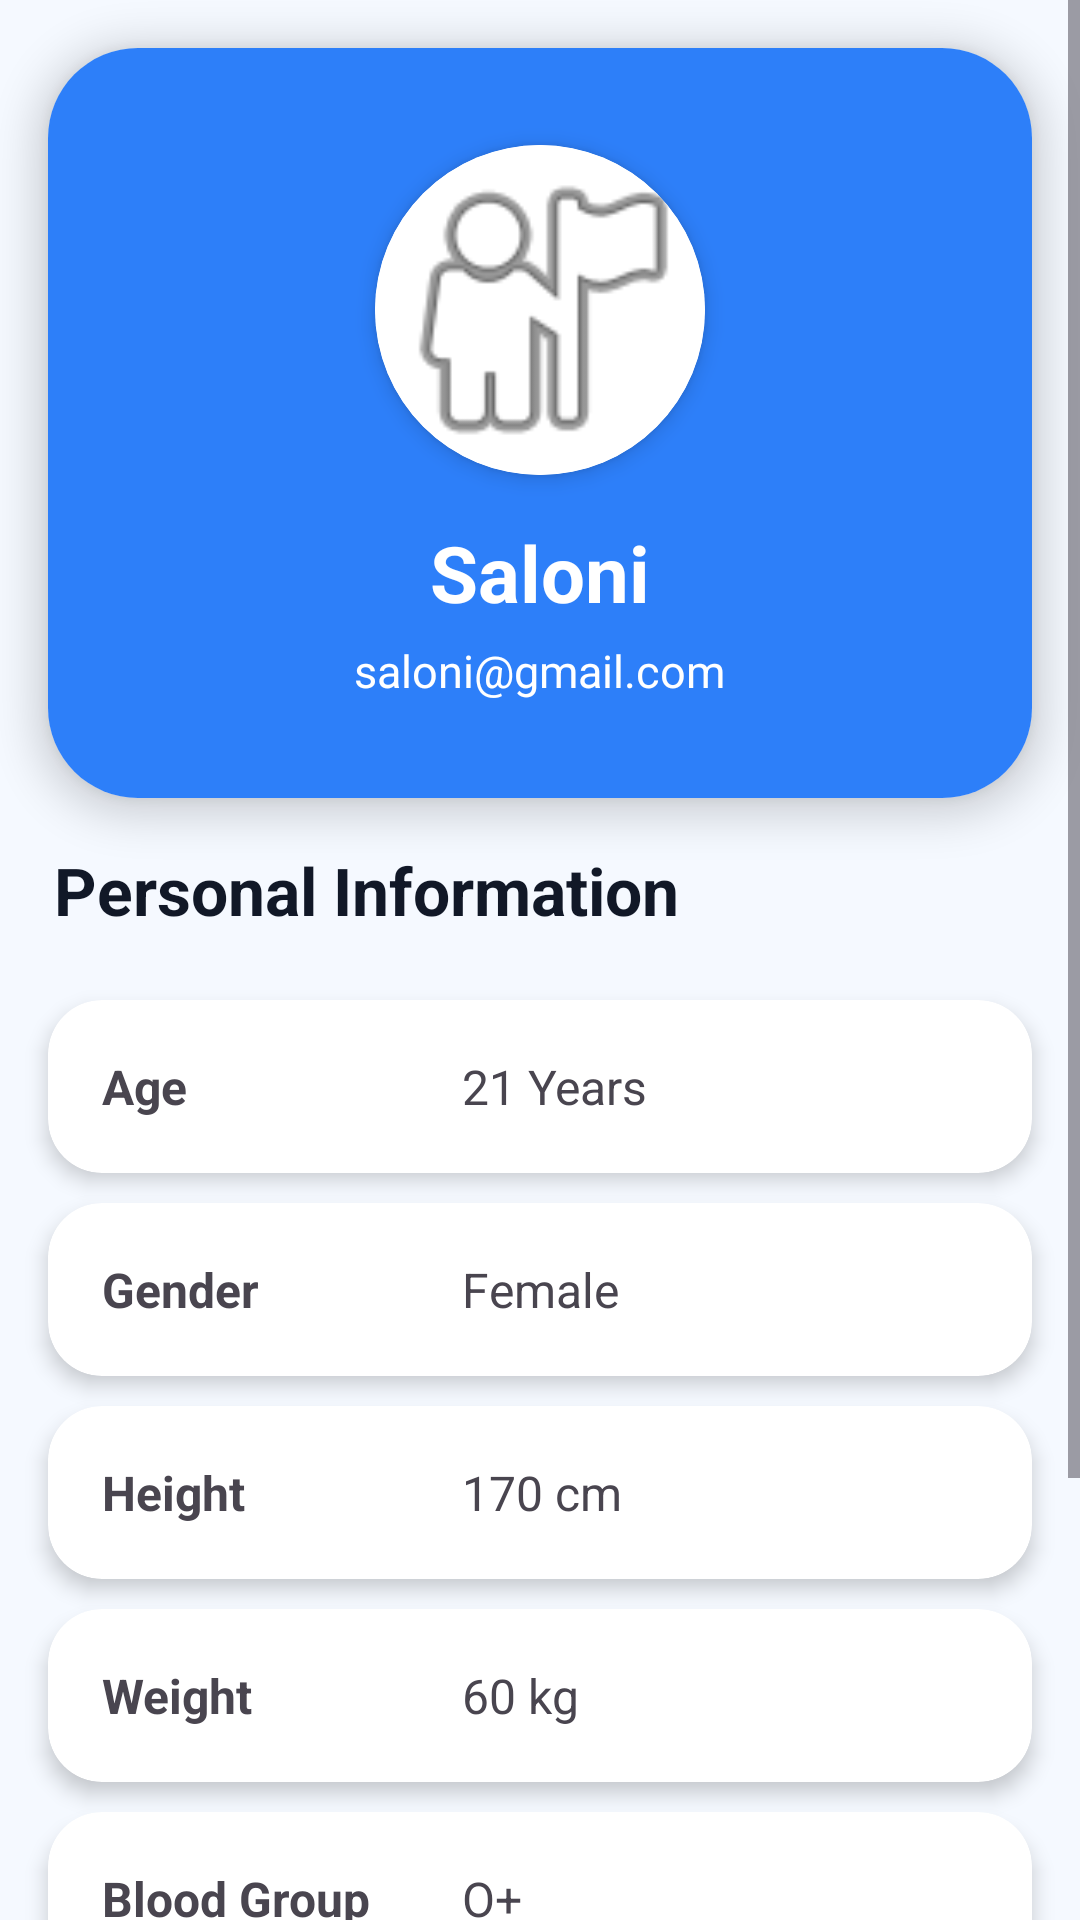

Screen size 1080px×1920px. Icon name, then its box in pixels as BBox(x1, y1, x2, y2):
Profile Picture: BBox(375, 145, 705, 475)
